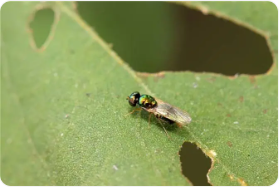liriomyza: (123, 90, 195, 139)
